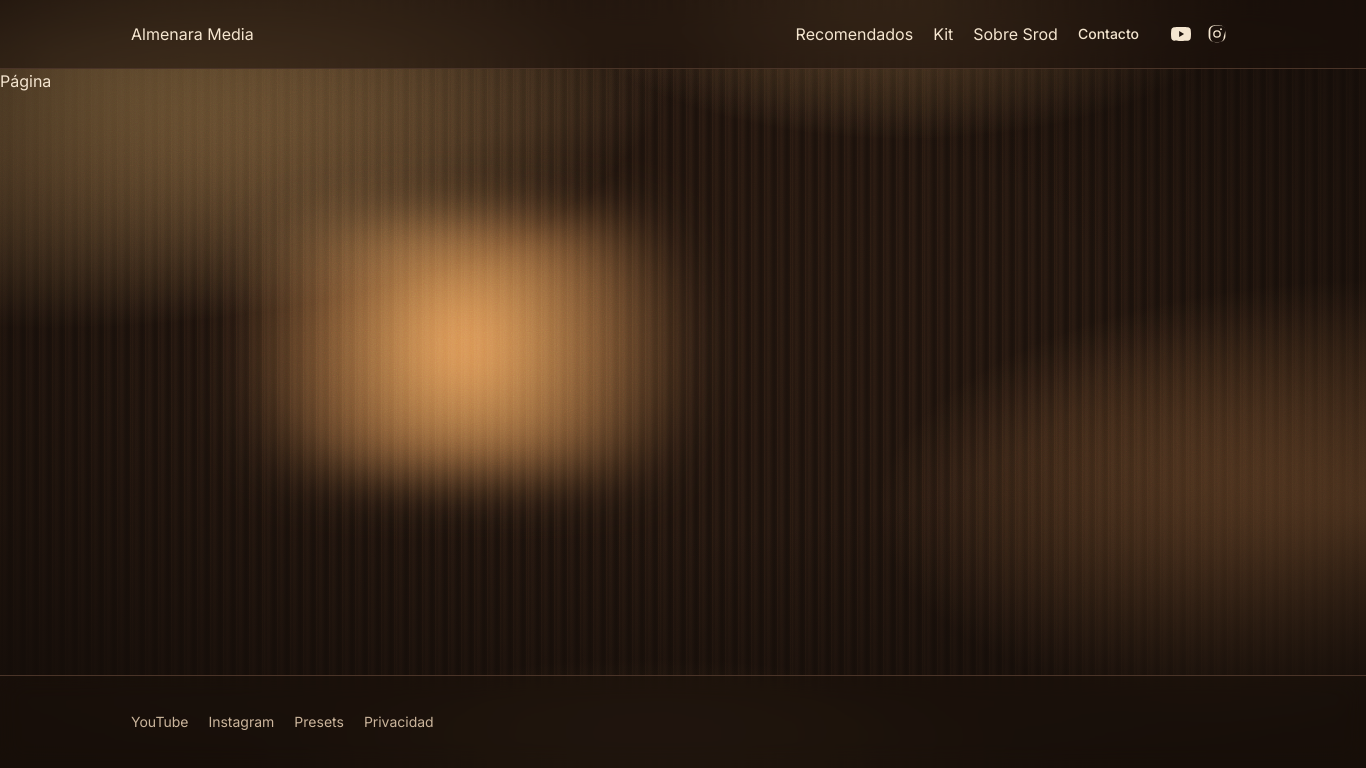
Test: PublicChrome › el Contacto del header abre el modal y no navega
What coordinates should you click on to do the following:
click the button "Contacto"
I would click on:
 (1108, 34)
Its box is [1078,12,1139,56].
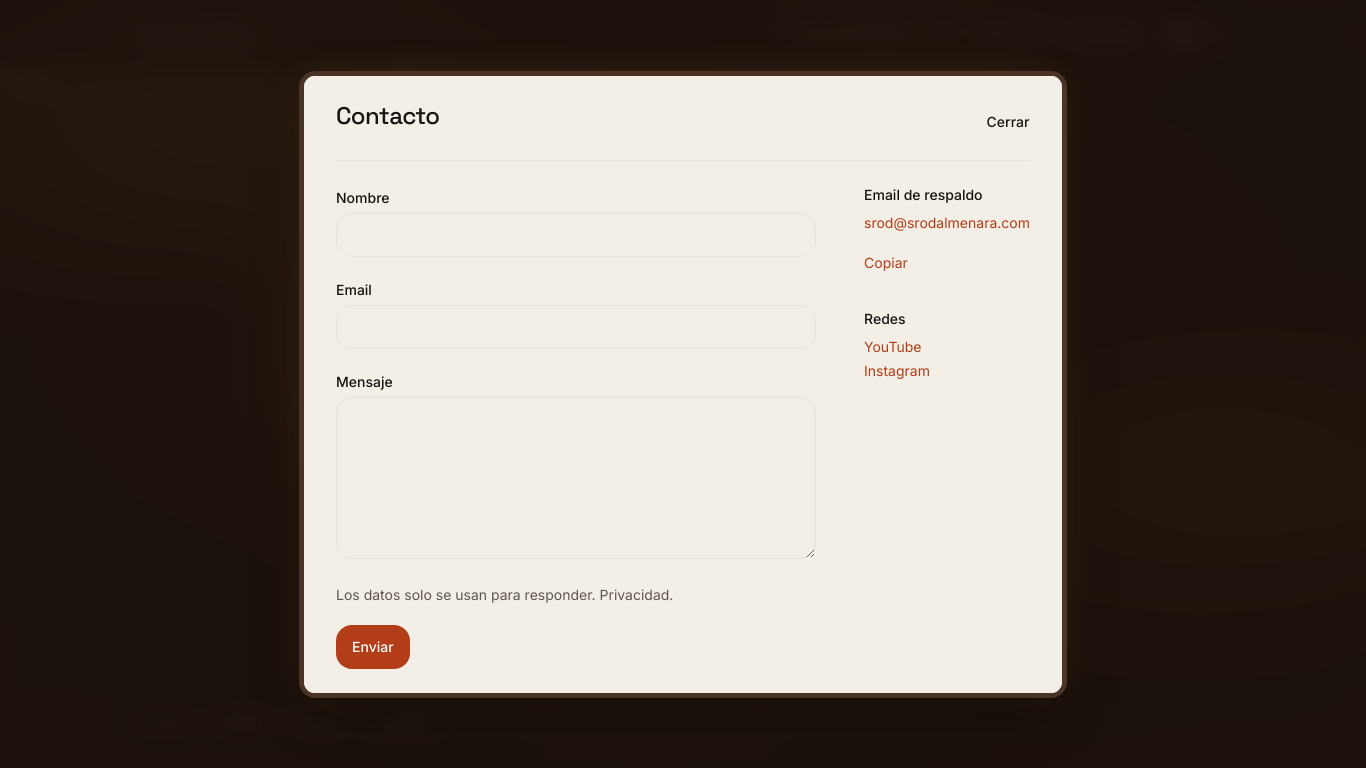
Expected: the dialog "Contacto" is shown, [304,76,1062,692]
